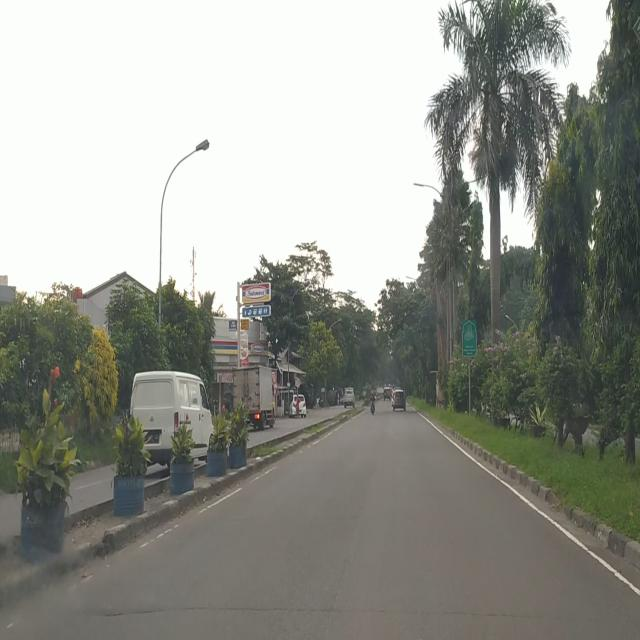Sewer Cover: (74, 604, 635, 624)
